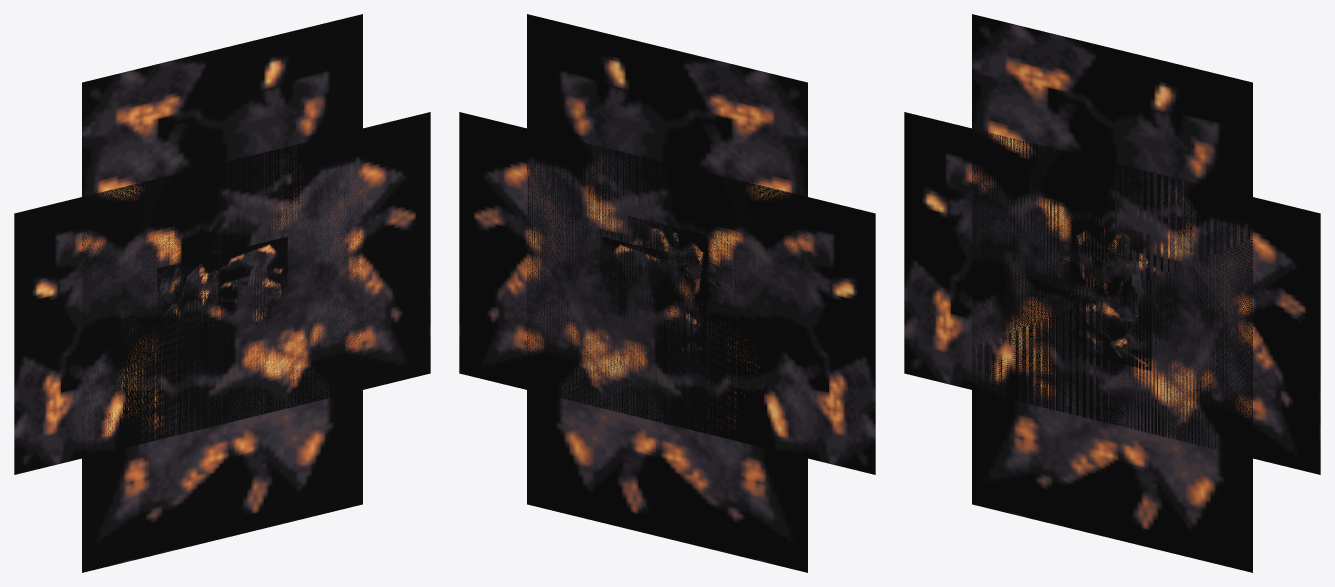
File: si_eoa_4111.glb
The picture shows the model from 3 angles, left to right: view 1: azimuth 30°, elevation 25°; view 2: azimuth 150°, elevation 25°; view 3: azimuth 330°, elevation 25°; orthographic projection.
Parts seen in each view (by area): view 1: layer_00_si_est_0700, layer_02_si_est_0700, layer_01_si_est_0700; view 2: layer_02_si_est_0700, layer_00_si_est_0700, layer_03_si_est_0700, layer_01_si_est_0700; view 3: layer_02_si_est_0700, layer_00_si_est_0700, layer_03_si_est_0700, layer_01_si_est_0700.
Part boxes in pixels (x1,y1,x2,y2): layer_00_si_est_0700: (14,112,430,474); layer_02_si_est_0700: (82,14,362,572); layer_01_si_est_0700: (157,237,287,342); layer_02_si_est_0700: (527,14,807,572); layer_00_si_est_0700: (459,112,875,474); layer_03_si_est_0700: (628,216,706,370); layer_01_si_est_0700: (602,237,732,294); layer_02_si_est_0700: (972,14,1252,572); layer_00_si_est_0700: (904,112,1320,474); layer_03_si_est_0700: (1073,217,1151,370); layer_01_si_est_0700: (1047,237,1177,317).
Size of the model in its own units: 32 by 36 by 2.72e-06.
1 material, 1 textured.
